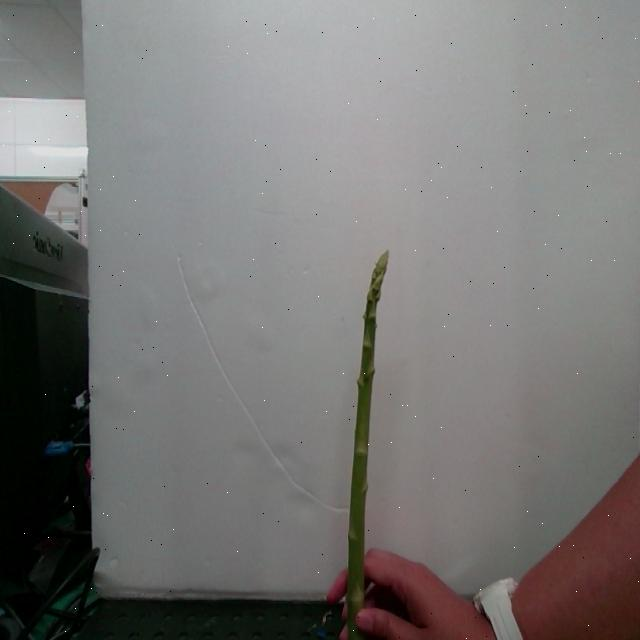aspargus: (344, 254, 391, 640)
